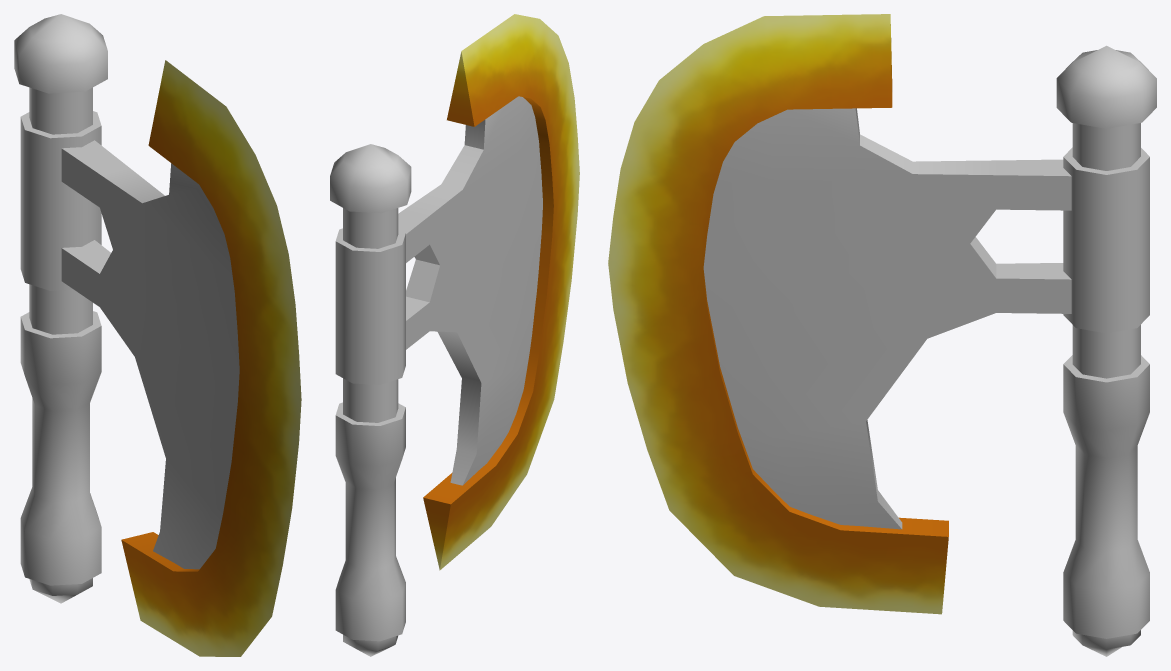
File: weapon_fire_axe_FBX.FBX
3 views of the same model, side by side, from view 1: azimuth 30°, elevation 25°; view 2: azimuth 150°, elevation 25°; view 3: azimuth 270°, elevation 25° (orthographic). The views are drawn at different scales.
Visible parts, largest first — view 1: weapon_axe001, filo_fuego_hacha001; view 2: weapon_axe001, filo_fuego_hacha001; view 3: weapon_axe001, filo_fuego_hacha001.
Part boxes in pixels (x1=…): weapon_axe001: x1=14, y1=14, x2=239, y2=603; filo_fuego_hacha001: x1=121, y1=60, x2=301, y2=656; weapon_axe001: x1=330, y1=96, x2=542, y2=656; filo_fuego_hacha001: x1=423, y1=14, x2=579, y2=570; weapon_axe001: x1=703, y1=45, x2=1156, y2=656; filo_fuego_hacha001: x1=608, y1=14, x2=948, y2=614.
Size of the model in its own units: 5.24 by 37.08 by 28.68.
